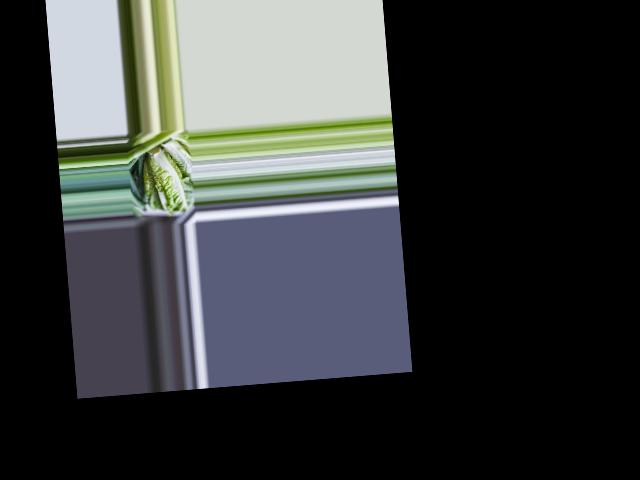lettuce: (140, 144, 188, 216)
